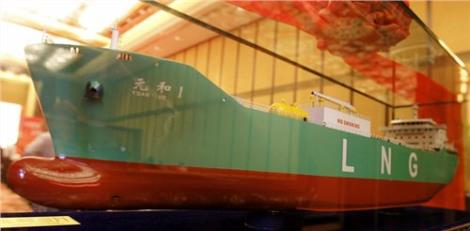Cargoship: (4, 25, 458, 209)
